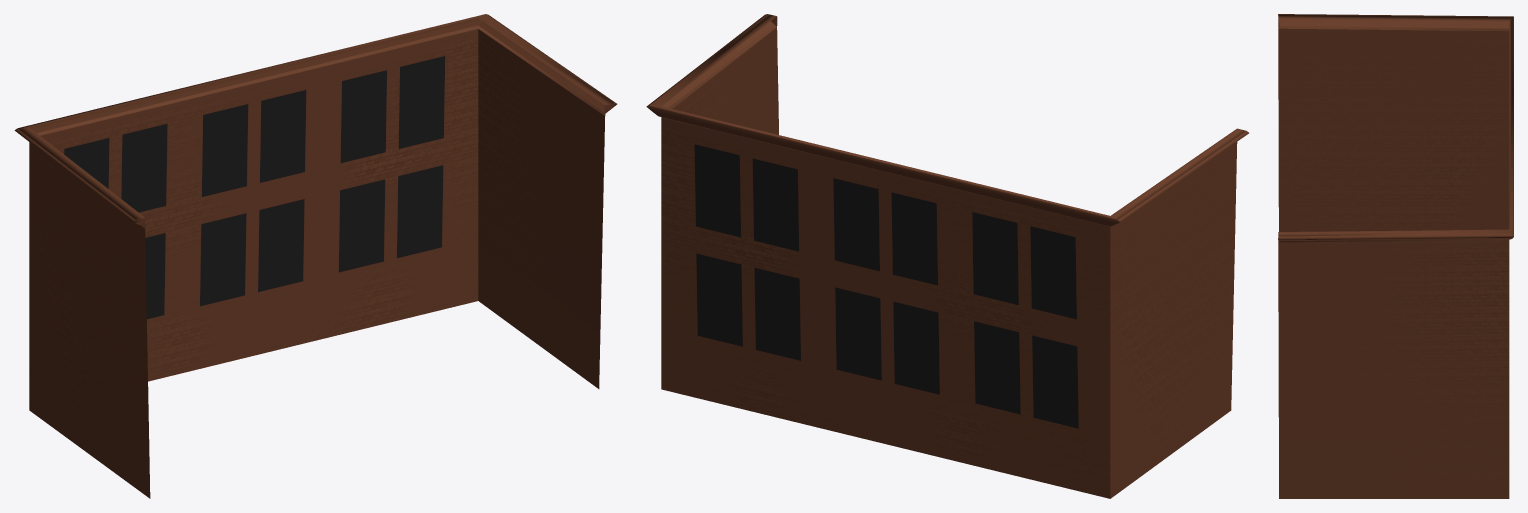
File: Building_Decor.fbx
3 renders of one model, left to right at view 1: azimuth 30°, elevation 25°; view 2: azimuth 150°, elevation 25°; view 3: azimuth 270°, elevation 25°, orthographic. The views are drawn at different scales.
Visible parts, largest first — view 1: BuildingA:Mesh1; view 2: BuildingA:Mesh1; view 3: BuildingA:Mesh1.
Boxes of the visible parts, left/top/right/bottom form: BuildingA:Mesh1: left=14, top=14, right=617, bottom=498; BuildingA:Mesh1: left=646, top=14, right=1248, bottom=498; BuildingA:Mesh1: left=1278, top=14, right=1513, bottom=498.
Bounding box in the file's own units: 33.58 × 18.74 × 14.87.
